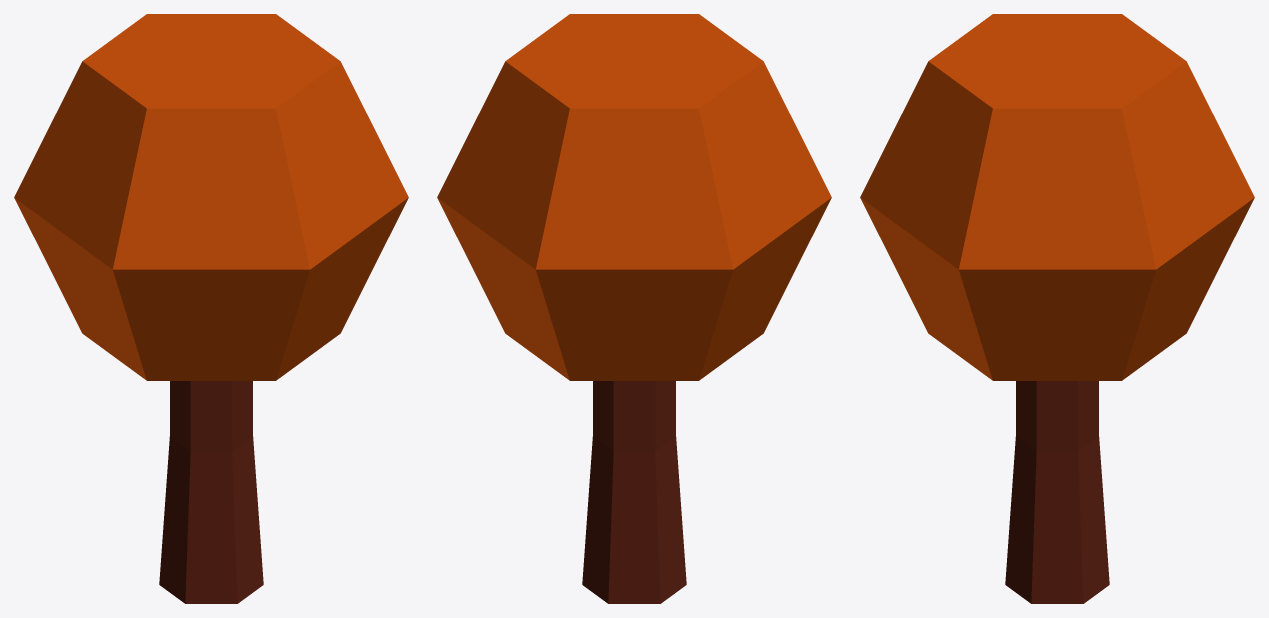
File: tree_a_orange.obj
3 renders of one model, left to right at view 1: azimuth 30°, elevation 25°; view 2: azimuth 150°, elevation 25°; view 3: azimuth 270°, elevation 25°, orthographic.
Visible parts, largest first — view 1: treetop_a_orange_Cylinder.005, trunk_a_orange_Cylinder.004; view 2: treetop_a_orange_Cylinder.005, trunk_a_orange_Cylinder.004; view 3: treetop_a_orange_Cylinder.005, trunk_a_orange_Cylinder.004.
Part boxes in pixels (<box>): treetop_a_orange_Cylinder.005: <box>14,14,408,380</box>; trunk_a_orange_Cylinder.004: <box>159,381,263,603</box>; treetop_a_orange_Cylinder.005: <box>437,14,831,380</box>; trunk_a_orange_Cylinder.004: <box>582,381,686,603</box>; treetop_a_orange_Cylinder.005: <box>860,14,1254,380</box>; trunk_a_orange_Cylinder.004: <box>1005,381,1109,603</box>.
Size of the model in its own units: 6.55 by 11.06 by 7.56.
